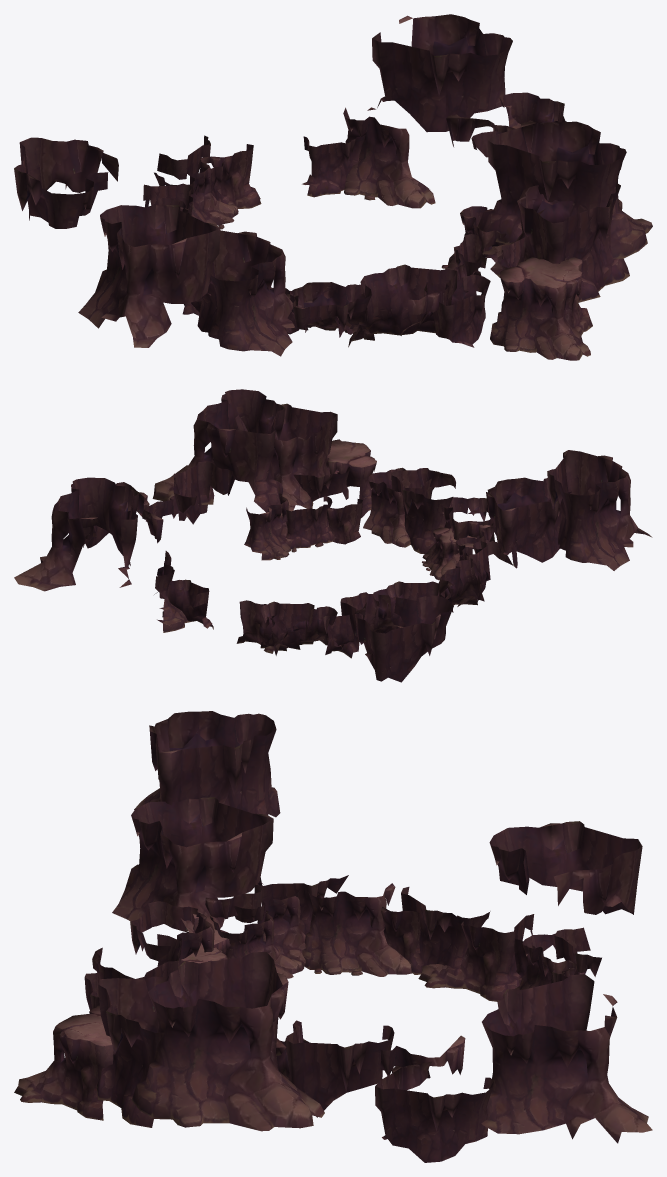
The model's file is area3_shiqiang_02.FBX.
3 renders of one model, top to bottom at view 1: azimuth 30°, elevation 25°; view 2: azimuth 150°, elevation 25°; view 3: azimuth 270°, elevation 25°, orthographic. The views are drawn at different scales.
Parts seen in each view (by area): view 1: area3_shiqiang_02; view 2: area3_shiqiang_02; view 3: area3_shiqiang_02.
Part boxes in pixels (x1,y1,x2,y2): area3_shiqiang_02: (14,14,652,360); area3_shiqiang_02: (14,389,652,682); area3_shiqiang_02: (14,711,652,1162).
Bounding box in the file's own units: 8755 × 2453 × 7580.
